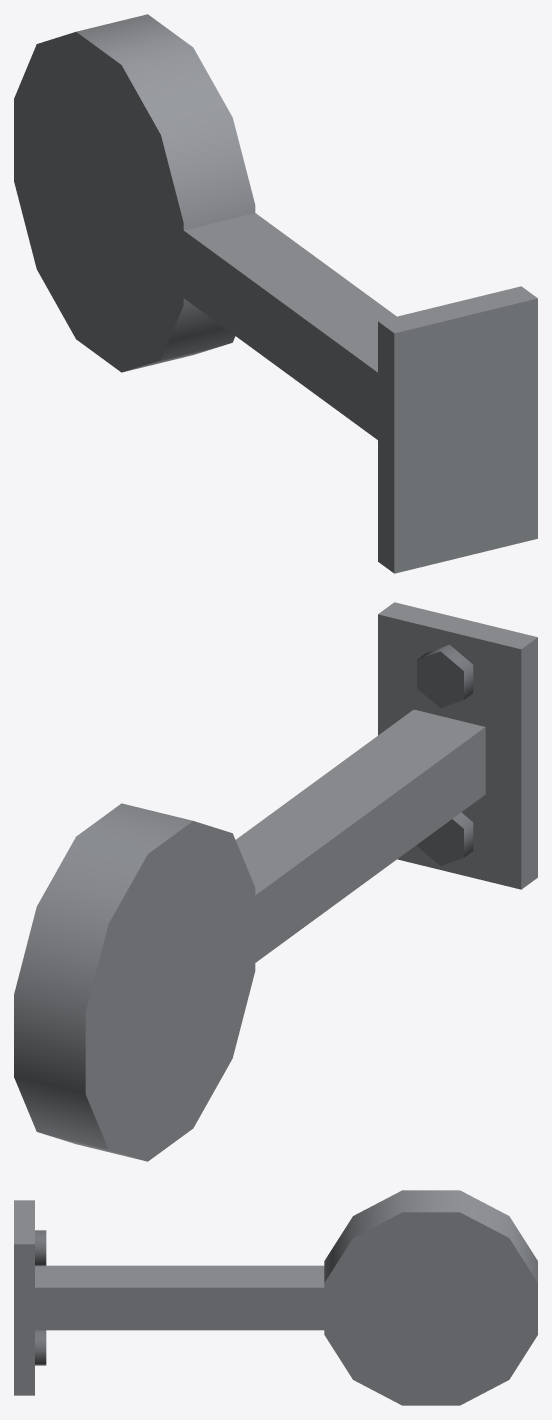
Rendered from clamp_x_south.obj.
3 renders of one model, top to bottom at view 1: azimuth 30°, elevation 25°; view 2: azimuth 150°, elevation 25°; view 3: azimuth 270°, elevation 25°, orthographic. The views are drawn at different scales.
Visible parts, largest first — view 1: clamp_x_south; view 2: clamp_x_south; view 3: clamp_x_south.
Part boxes in pixels (x1,y1,x2,y2): clamp_x_south: (14,14,537,573); clamp_x_south: (14,602,537,1161); clamp_x_south: (14,1190,537,1405).
Size of the model in its own units: 0.125 by 0.256 by 0.628.
